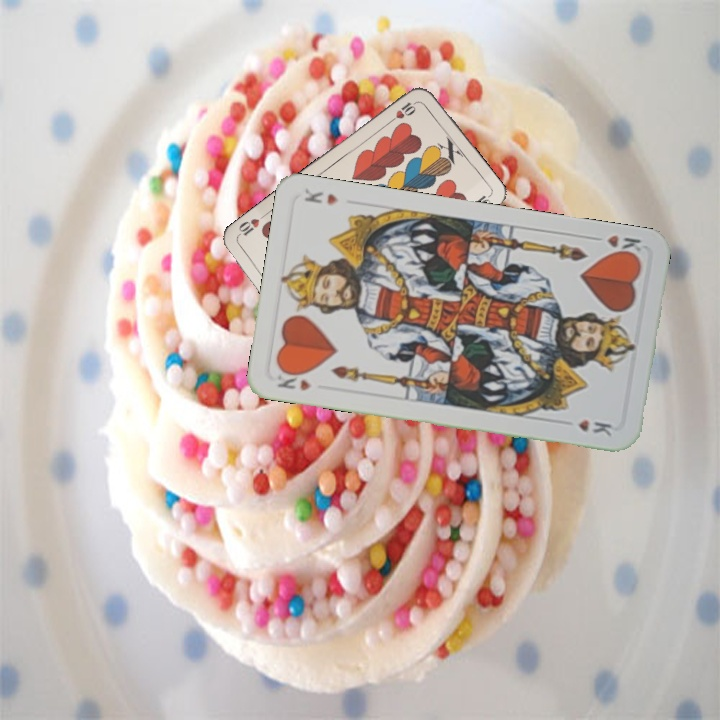H10: (385, 97, 420, 126)
HK: (587, 231, 644, 261), (273, 365, 314, 394)
